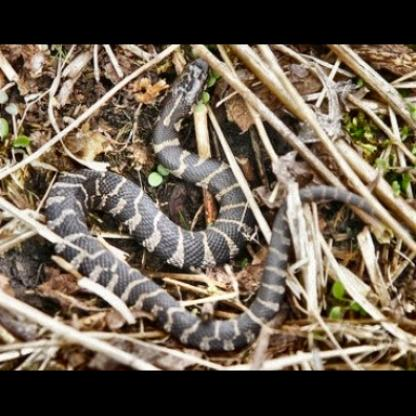Snake: (33, 61, 297, 349)
